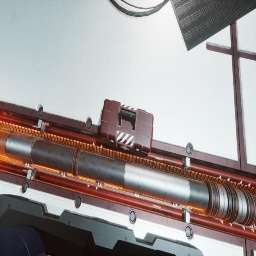FirstAidBox ,: (100, 99, 154, 157)
